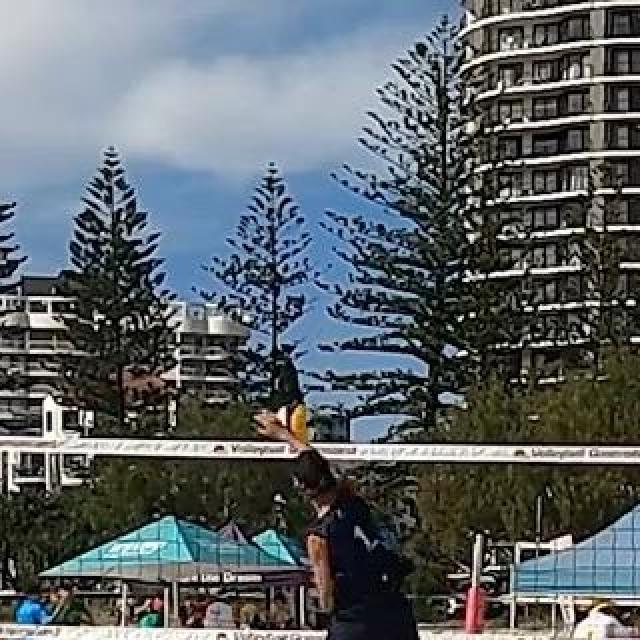volleyball: (277, 403, 311, 433)
